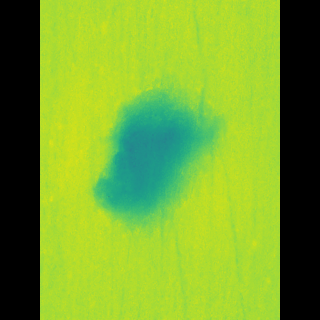Loch: (104, 84, 205, 231)
